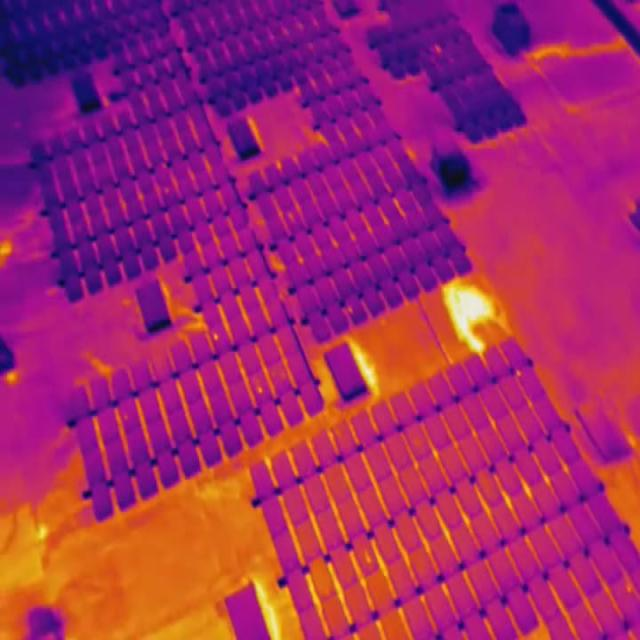Orange-Spots: (364, 549, 370, 564), (256, 385, 262, 394), (517, 369, 522, 378), (213, 334, 219, 341), (626, 586, 632, 592), (348, 307, 353, 313), (165, 188, 169, 192), (124, 416, 128, 420)
